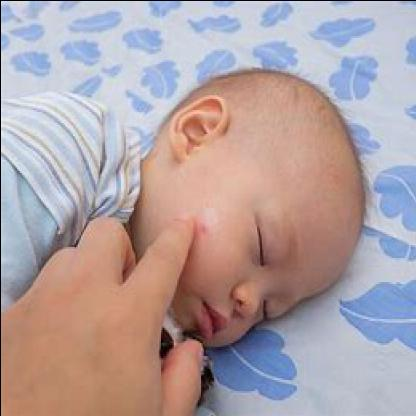Wasp: (194, 202, 223, 242)
